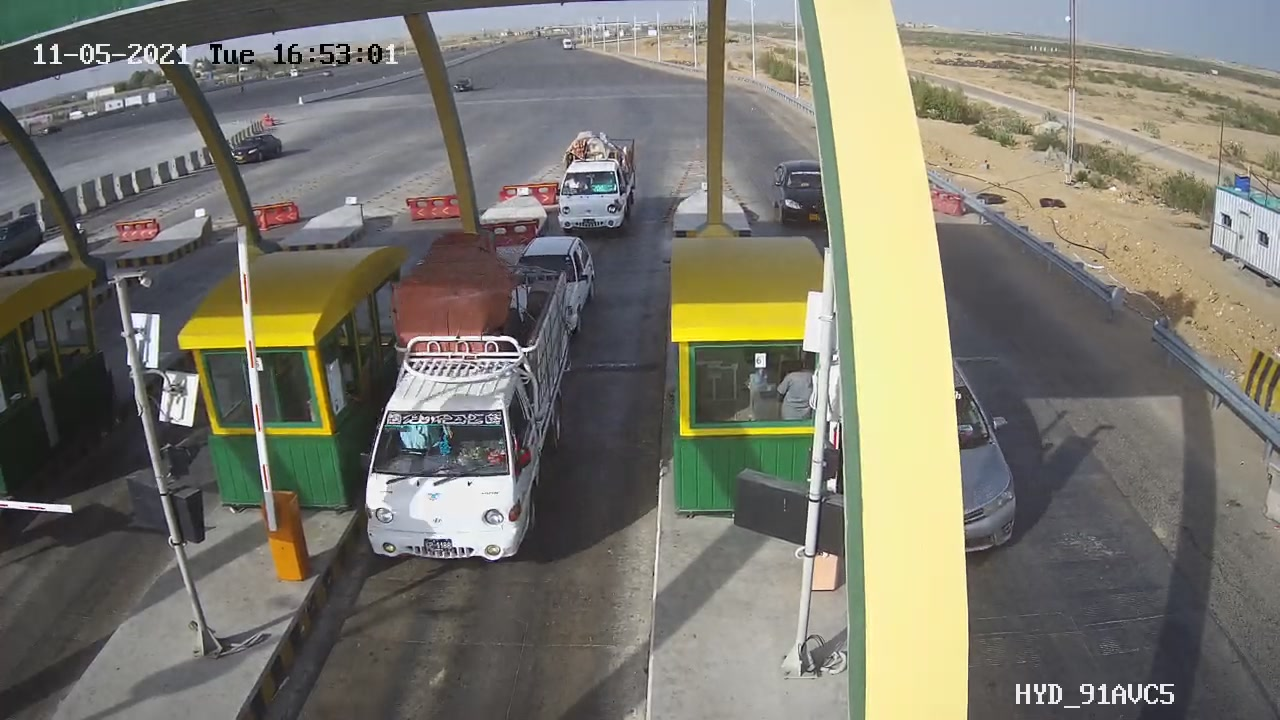F2: (359, 249, 575, 580), (546, 127, 652, 243)
